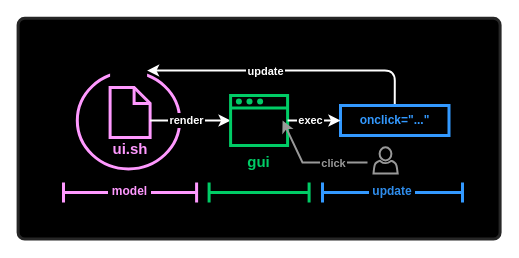
This 519x258 diagram has some shape labels left out. The box of each missing label's shape, as (x1, y1, x2, y2) in pixels:
env: (110, 59, 147, 81)
view: (207, 180, 310, 203)
